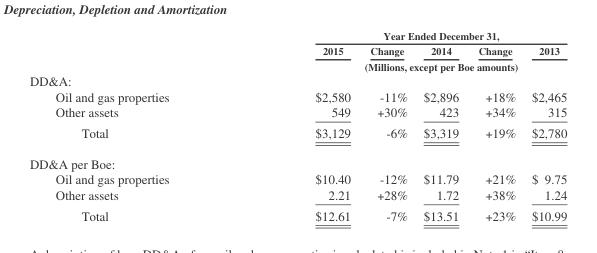table: (28, 29, 566, 222)
table column: (28, 29, 241, 222), (241, 29, 359, 222), (467, 29, 523, 222), (359, 29, 414, 222), (414, 29, 467, 222), (523, 29, 566, 222)
table column header: (28, 29, 566, 72)
table projected row header: (28, 148, 566, 171), (28, 72, 566, 88)
table row: (28, 122, 566, 148), (28, 148, 566, 171), (28, 104, 566, 122), (28, 186, 566, 204), (28, 204, 566, 222), (28, 42, 566, 58), (28, 72, 566, 88), (28, 88, 566, 104), (28, 171, 566, 186), (28, 58, 566, 72), (28, 29, 566, 42)
table spanning cell: (241, 58, 566, 72), (241, 29, 566, 42)
